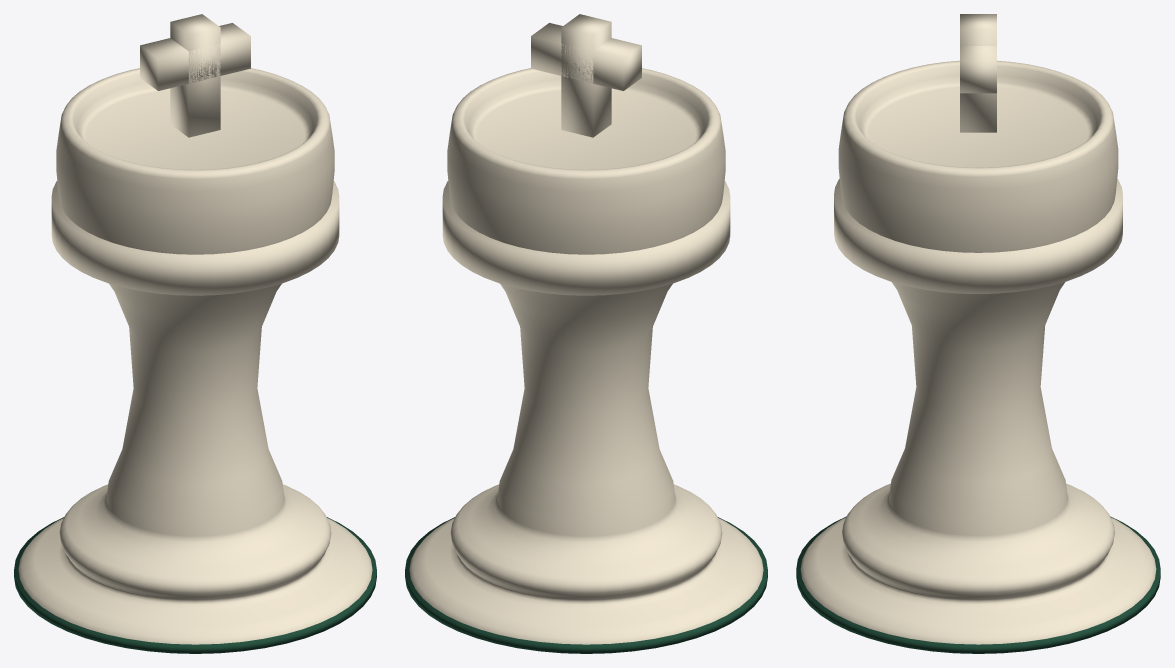
The model's file is chess-king-white.glb.
The picture shows the model from 3 angles, left to right: view 1: azimuth 30°, elevation 25°; view 2: azimuth 150°, elevation 25°; view 3: azimuth 270°, elevation 25°; orthographic projection.
Visible parts, largest first — view 1: ChessKing; view 2: ChessKing; view 3: ChessKing.
Part boxes in pixels (x1,y1,x2,y2): ChessKing: (14,14,376,653); ChessKing: (405,14,767,653); ChessKing: (796,14,1160,653).
Bounding box in the file's own units: 0.5951 × 1 × 0.5951.
